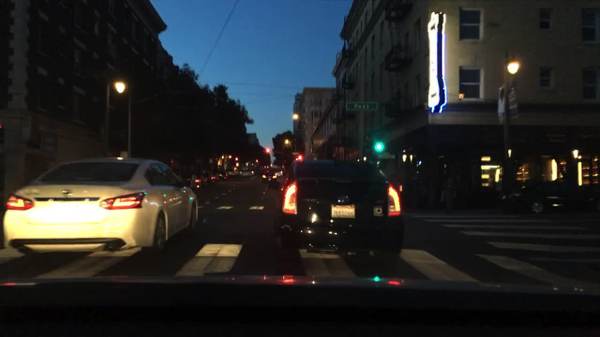car: (2, 155, 199, 258), (274, 154, 405, 257), (503, 181, 584, 214), (581, 183, 599, 212), (260, 170, 277, 184), (182, 178, 198, 191), (242, 169, 252, 179), (195, 178, 205, 188), (275, 166, 283, 178), (244, 162, 255, 169), (226, 169, 234, 176), (222, 172, 229, 180), (202, 176, 210, 183), (234, 170, 242, 176), (215, 173, 221, 181), (263, 164, 271, 169), (210, 174, 215, 180)
person: (440, 178, 456, 214), (420, 180, 428, 210)
traffic light: (374, 142, 385, 154), (265, 145, 271, 155), (0, 120, 4, 131), (235, 156, 240, 163), (228, 154, 233, 161), (364, 134, 369, 141), (256, 157, 260, 164)
traffic sign: (345, 101, 378, 110), (120, 150, 128, 158), (289, 151, 298, 156), (209, 157, 213, 164)
